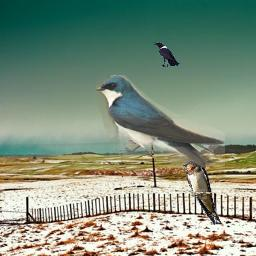Crow: (153, 42, 180, 67)
Swallow: (96, 75, 225, 167), (182, 160, 221, 225)
